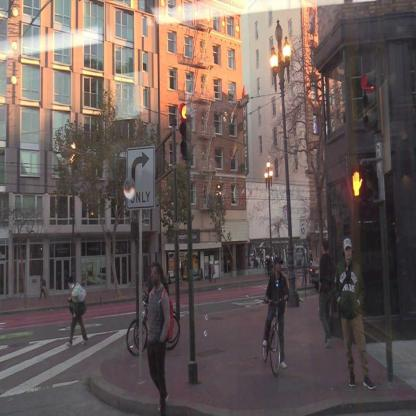other: (164, 4, 244, 49), (6, 8, 20, 95), (350, 161, 370, 203), (164, 289, 178, 348), (271, 52, 292, 75), (177, 99, 193, 123)
